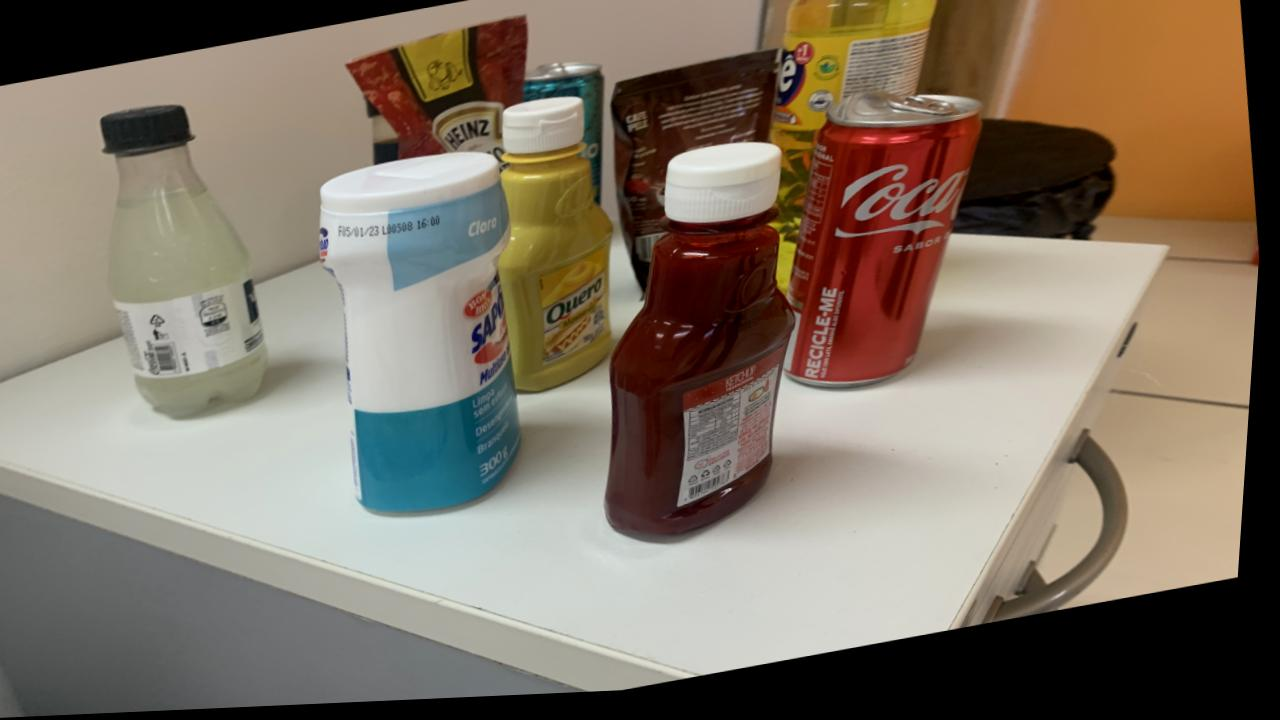Cleaner-Cleanup_Items: (321, 155, 527, 517)
Coffee-Pantry_Items: (612, 56, 779, 292)
Coke-Drinks: (792, 101, 983, 394)
Detergent-Cleanup_Items: (773, 0, 937, 286)
English_Sauce-Pantry_Items: (368, 104, 402, 168)
Ketchup-Pantry_Items: (612, 149, 798, 542)
Mustard-Pantry_Items: (501, 101, 617, 397)
Soda-Drinks: (103, 107, 272, 419)
Tea-Drinks: (524, 67, 606, 208)
Tomato_Sauce-Pantry_Items: (346, 19, 529, 162)
